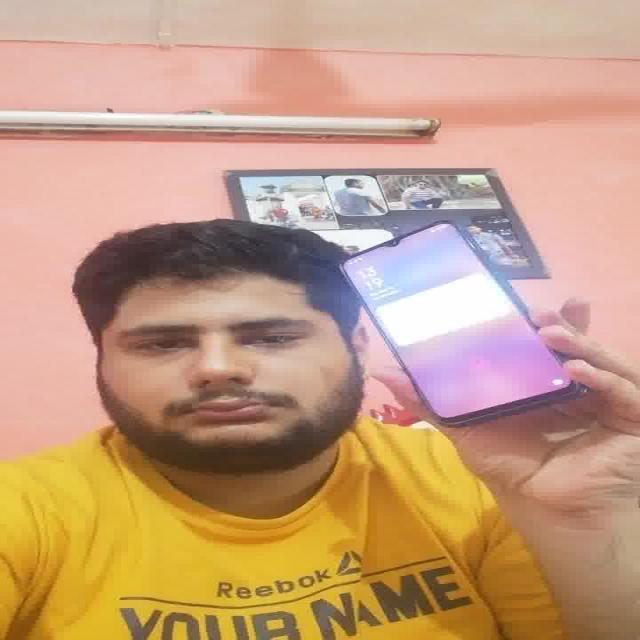Phone: (340, 215, 594, 426)
